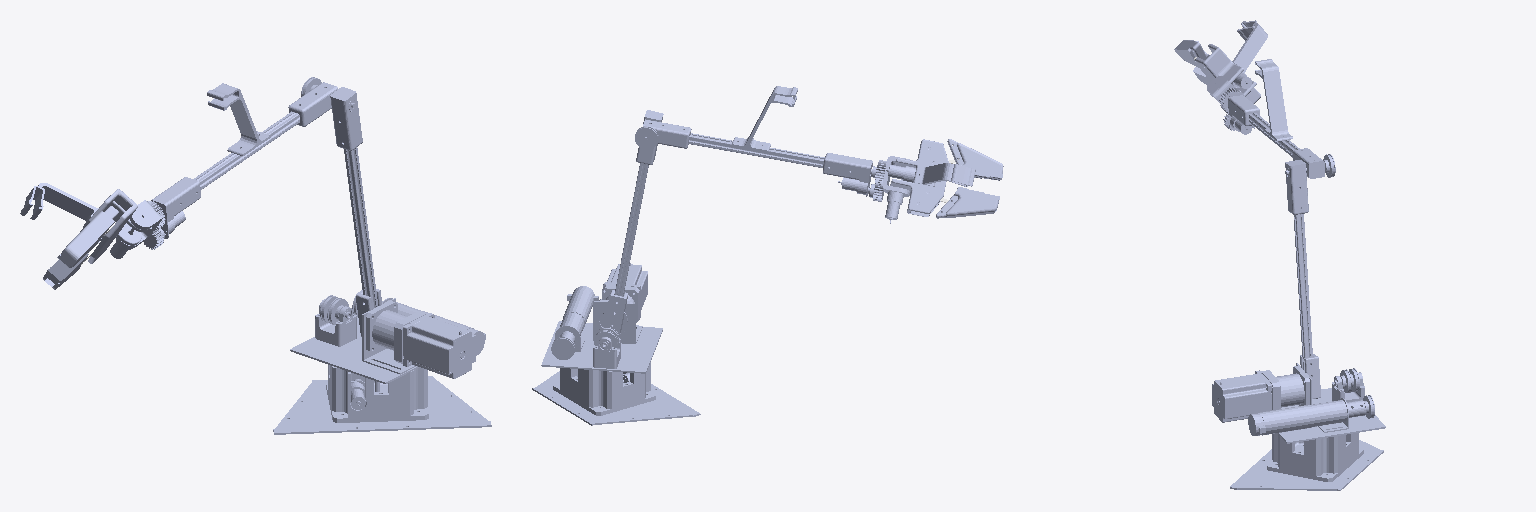
The robot description file, URDF, robot "leg_assembly":
<?xml version="1.0" encoding="utf-8"?>
<!-- This URDF was automatically created by SolidWorks to URDF Exporter! Originally created by [author] ([email redacted]) 
     Commit Version: 1.6.0-4-g7f85cfe  Build Version: 1.6.7995.38578
     For more information, please see http://wiki.ros.org/sw_urdf_exporter -->
<robot
  name="leg_assembly">
  <link
    name="base_link">
    <inertial>
      <origin
        xyz="0.150594316389524 0.0678493446135312 0.347863951717185"
        rpy="0 0 0" />
      <mass
        value="0.0101653880980363" />
      <inertia
        ixx="1.0048246878099E-05"
        ixy="-7.3468396926393E-37"
        ixz="-1.53688779177998E-21"
        iyy="1.5157875001342E-07"
        iyz="3.82929478237882E-22"
        izz="1.0048246878099E-05" />
    </inertial>
    <visual>
      <origin
        xyz="0 0 0"
        rpy="0 0 0" />
      <geometry>
        <mesh
          filename="package://leg_assembly/meshes/base_link.STL" />
      </geometry>
      <material
        name="">
        <color
          rgba="0.792156862745098 0.819607843137255 0.933333333333333 1" />
      </material>
    </visual>
    <collision>
      <origin
        xyz="0 0 0"
        rpy="0 0 0" />
      <geometry>
        <mesh
          filename="package://leg_assembly/meshes/base_link.STL" />
      </geometry>
    </collision>
  </link>
  <link
    name="link_1">
    <inertial>
      <origin
        xyz="-0.0614185793985458 0.127225993323511 -0.103015532344665"
        rpy="0 0 0" />
      <mass
        value="14.3172515097003" />
      <inertia
        ixx="1.47051720779902"
        ixy="-0.0975033756736119"
        ixz="0.162957766718895"
        iyy="1.06376569521041"
        iyz="0.590486867173748"
        izz="0.673327903454145" />
    </inertial>
    <visual>
      <origin
        xyz="0 0 0"
        rpy="0 0 0" />
      <geometry>
        <mesh
          filename="package://leg_assembly/meshes/link_1.STL" />
      </geometry>
      <material
        name="">
        <color
          rgba="0.792156862745098 0.819607843137255 0.933333333333333 1" />
      </material>
    </visual>
    <collision>
      <origin
        xyz="0 0 0"
        rpy="0 0 0" />
      <geometry>
        <mesh
          filename="package://leg_assembly/meshes/link_1.STL" />
      </geometry>
    </collision>
  </link>
  <joint
    name="base_joint"
    type="continuous">
    <origin
      xyz="0.150594316389524 -0.347863951717185 0.102099344613531"
      rpy="1.5707963267949 0 1.92899218657778" />
    <parent
      link="base_link" />
    <child
      link="link_1" />
    <axis
      xyz="0 1 0" />
  </joint>
  <link
    name="link_2">
    <inertial>
      <origin
        xyz="-0.0614185793985462 0.0860431898520337 -0.0252770894795993"
        rpy="0 0 0" />
      <mass
        value="14.3172515097003" />
      <inertia
        ixx="1.47051720779902"
        ixy="-0.183407254561084"
        ixz="0.049233331962452"
        iyy="0.28463001287987"
        iyz="0.21407088571695"
        izz="1.45246358578468" />
    </inertial>
    <visual>
      <origin
        xyz="0 0 0"
        rpy="0 0 0" />
      <geometry>
        <mesh
          filename="package://leg_assembly/meshes/link_2.STL" />
      </geometry>
      <material
        name="">
        <color
          rgba="0.792156862745098 0.819607843137255 0.933333333333333 1" />
      </material>
    </visual>
    <collision>
      <origin
        xyz="0 0 0"
        rpy="0 0 0" />
      <geometry>
        <mesh
          filename="package://leg_assembly/meshes/link_2.STL" />
      </geometry>
    </collision>
  </link>
  <joint
    name="shoulder_joint"
    type="continuous">
    <origin
      xyz="0 0.0829999999999999 -0.0249999999999991"
      rpy="-0.769347148250491 0 0" />
    <parent
      link="link_1" />
    <child
      link="link_2" />
    <axis
      xyz="1 0 0" />
  </joint>
  <link
    name="link_3">
    <inertial>
      <origin
        xyz="0.0349999999999945 -0.200848271626628 -0.50117220412209"
        rpy="0 0 0" />
      <mass
        value="0.003071007349849" />
      <inertia
        ixx="3.31492210861076E-07"
        ixy="1.85702047518155E-22"
        ixz="4.6983858793012E-22"
        iyy="2.91588594850019E-07"
        iyz="-9.95706013636013E-08"
        izz="8.3035914239687E-08" />
    </inertial>
    <visual>
      <origin
        xyz="0 0 0"
        rpy="0 0 0" />
      <geometry>
        <mesh
          filename="package://leg_assembly/meshes/link_3.STL" />
      </geometry>
      <material
        name="">
        <color
          rgba="0.792156862745098 0.819607843137255 0.933333333333333 1" />
      </material>
    </visual>
    <collision>
      <origin
        xyz="0 0 0"
        rpy="0 0 0" />
      <geometry>
        <mesh
          filename="package://leg_assembly/meshes/link_3.STL" />
      </geometry>
    </collision>
  </link>
  <joint
    name="elbow_joint"
    type="continuous">
    <origin
      xyz="0 0.433165678176262 0.292848996327625"
      rpy="1.03040234769901 0 0" />
    <parent
      link="link_2" />
    <child
      link="link_3" />
    <axis
      xyz="1 0 0" />
  </joint>
  <link
    name="link_4">
    <inertial>
      <origin
        xyz="0.320431980343591 -0.376269057917054 0.473731650433522"
        rpy="0 0 0" />
      <mass
        value="14.3172515097003" />
      <inertia
        ixx="1.22299869199904"
        ixy="0.315862841528246"
        ixz="-0.397130167812801"
        iyy="1.12261703452718"
        iyz="0.501432352642655"
        izz="0.861995079937343" />
    </inertial>
    <visual>
      <origin
        xyz="0 0 0"
        rpy="0 0 0" />
      <geometry>
        <mesh
          filename="package://leg_assembly/meshes/link_4.STL" />
      </geometry>
      <material
        name="">
        <color
          rgba="0.792156862745098 0.819607843137255 0.933333333333333 1" />
      </material>
    </visual>
    <collision>
      <origin
        xyz="0 0 0"
        rpy="0 0 0" />
      <geometry>
        <mesh
          filename="package://leg_assembly/meshes/link_4.STL" />
      </geometry>
    </collision>
  </link>
  <joint
    name="wrist_roll"
    type="continuous">
    <origin
      xyz="0.0349999999999992 -0.198274893934871 -0.494750912271433"
      rpy="-0.276225881664695 -0.304270113720173 -0.900391226843565" />
    <parent
      link="link_3" />
    <child
      link="link_4" />
    <axis
      xyz="0 0.0429812476264269 -0.99907587917659" />
  </joint>
  <link
    name="end_effector">
    <inertial>
      <origin
        xyz="2.22044604925031E-16 0.0152130621288969 -0.0798538250989508"
        rpy="0 0 0" />
      <mass
        value="0.00512941577019471" />
      <inertia
        ixx="1.25499198245662E-06"
        ixy="-3.4146015686189E-21"
        ixz="1.42275065359121E-21"
        iyy="1.90379021308943E-07"
        iyz="4.26651102034632E-07"
        izz="1.08400856452872E-06" />
    </inertial>
    <visual>
      <origin
        xyz="0 0 0"
        rpy="0 0 0" />
      <geometry>
        <mesh
          filename="package://leg_assembly/meshes/end_effector.STL" />
      </geometry>
      <material
        name="">
        <color
          rgba="0.792156862745098 0.819607843137255 0.933333333333333 1" />
      </material>
    </visual>
    <collision>
      <origin
        xyz="0 0 0"
        rpy="0 0 0" />
      <geometry>
        <mesh
          filename="package://leg_assembly/meshes/end_effector.STL" />
      </geometry>
    </collision>
  </link>
  <joint
    name="wrist_pitch"
    type="continuous">
    <origin
      xyz="0 0.0021491 -0.049954"
      rpy="0.29533 0 0" />
    <parent
      link="link_4" />
    <child
      link="end_effector" />
    <axis
      xyz="1 0 0" />
  </joint>
  <link
    name="finger_link_left">
    <inertial>
      <origin
        xyz="0 0.0265129074172366 0.0295580095320563"
        rpy="0 0 0" />
      <mass
        value="0.00369323716533971" />
      <inertia
        ixx="1.64319292473695E-06"
        ixy="5.29395592033938E-23"
        ixz="9.27269466671944E-22"
        iyy="1.65626520145604E-06"
        iyz="4.57265442619314E-21"
        izz="3.9078821758365E-08" />
    </inertial>
    <visual>
      <origin
        xyz="0 0 0"
        rpy="0 0 0" />
      <geometry>
        <mesh
          filename="package://leg_assembly/meshes/finger_link_left.STL" />
      </geometry>
      <material
        name="">
        <color
          rgba="1 1 1 1" />
      </material>
    </visual>
    <collision>
      <origin
        xyz="0 0 0"
        rpy="0 0 0" />
      <geometry>
        <mesh
          filename="package://leg_assembly/meshes/finger_link_left.STL" />
      </geometry>
    </collision>
  </link>
  <joint
    name="finger_joint_left"
    type="continuous">
    <origin
      xyz="-0.0350000000000005 -0.0252122416049434 -0.0725251018483113"
      rpy="-2.72838699915497 -0.386039781368848 2.97798281371752" />
    <parent
      link="end_effector" />
    <child
      link="finger_link_left" />
    <axis
      xyz="0 1 0" />
  </joint>
  <link
    name="finger_tip_left">
    <inertial>
      <origin
        xyz="-0.116970106234662 -0.175351334282535 0.816276217430182"
        rpy="0 0 0" />
      <mass
        value="14.3172515097003" />
      <inertia
        ixx="1.47116642312389"
        ixy="-0.0431428215248987"
        ixz="0.0989108612375278"
        iyy="1.37410627950981"
        iyz="0.393564230132815"
        izz="0.362338103829861" />
    </inertial>
    <visual>
      <origin
        xyz="0 0 0"
        rpy="0 0 0" />
      <geometry>
        <mesh
          filename="package://leg_assembly/meshes/finger_tip_left.STL" />
      </geometry>
      <material
        name="">
        <color
          rgba="0.792156862745098 0.819607843137255 0.933333333333333 1" />
      </material>
    </visual>
    <collision>
      <origin
        xyz="0 0 0"
        rpy="0 0 0" />
      <geometry>
        <mesh
          filename="package://leg_assembly/meshes/finger_tip_left.STL" />
      </geometry>
    </collision>
  </link>
  <joint
    name="finger_j1"
    type="continuous">
    <origin
      xyz="0 0 0.0599999999999998"
      rpy="-2.81843607467865 -0.292711741710647 -3.14159265358978" />
    <parent
      link="finger_link_left" />
    <child
      link="finger_tip_left" />
    <axis
      xyz="0 0.948237736477631 -0.317561324974845" />
  </joint>
  <link
    name="finger_link_right">
    <inertial>
      <origin
        xyz="1.11022302462516E-16 0.019589295354482 0.0295580095320566"
        rpy="0 0 0" />
      <mass
        value="0.00369323716533973" />
      <inertia
        ixx="1.64319292473697E-06"
        ixy="-5.29395592033938E-23"
        ixz="9.40504356472792E-22"
        iyy="1.65626520145607E-06"
        iyz="6.24025054110004E-21"
        izz="3.90788217583653E-08" />
    </inertial>
    <visual>
      <origin
        xyz="0 0 0"
        rpy="0 0 0" />
      <geometry>
        <mesh
          filename="package://leg_assembly/meshes/finger_link_right.STL" />
      </geometry>
      <material
        name="">
        <color
          rgba="1 1 1 1" />
      </material>
    </visual>
    <collision>
      <origin
        xyz="0 0 0"
        rpy="0 0 0" />
      <geometry>
        <mesh
          filename="package://leg_assembly/meshes/finger_link_right.STL" />
      </geometry>
    </collision>
  </link>
  <joint
    name="finger_joint_right"
    type="continuous">
    <origin
      xyz="0.035 -0.018786 -0.075101"
      rpy="-2.7586 0.095478 -3.1032" />
    <parent
      link="end_effector" />
    <child
      link="finger_link_right" />
    <axis
      xyz="0 1 0" />
    <mimic
      joint="finger_joint_left"
      multiplier="1"
      offset="0" />
  </joint>
  <link
    name="finger_tip_right">
    <inertial>
      <origin
        xyz="-0.21008 -0.20292 0.75576"
        rpy="0 0 0" />
      <mass
        value="14.317" />
      <inertia
        ixx="1.4675"
        ixy="-0.050352"
        ixz="0.11832"
        iyy="1.3735"
        iyz="0.39336"
        izz="0.36667" />
    </inertial>
    <visual>
      <origin
        xyz="0 0 0"
        rpy="0 0 0" />
      <geometry>
        <mesh
          filename="package://leg_assembly/meshes/finger_tip_right.STL" />
      </geometry>
      <material
        name="">
        <color
          rgba="0.79216 0.81961 0.93333 1" />
      </material>
    </visual>
    <collision>
      <origin
        xyz="0 0 0"
        rpy="0 0 0" />
      <geometry>
        <mesh
          filename="package://leg_assembly/meshes/finger_tip_right.STL" />
      </geometry>
    </collision>
  </link>
  <joint
    name="finger_j2"
    type="continuous">
    <origin
      xyz="0 0 0.06"
      rpy="-2.8184 -0.8343 -3.1416" />
    <parent
      link="finger_link_right" />
    <child
      link="finger_tip_right" />
    <axis
      xyz="0 0.94824 -0.31756" />
    <mimic
      joint="finger_j1"
      multiplier="1"
      offset="0" />
  </joint>

</robot>

--- Render facts (derived) ---
The picture shows the robot from 3 angles, left to right: view 1: azimuth 30°, elevation 25°; view 2: azimuth 150°, elevation 25°; view 3: azimuth 270°, elevation 25°; orthographic projection.
Model leg_assembly with 10 links and 9 joints (9 continuous), rooted at base_link, posed every joint at zero.
Links seen in each view (by area): view 1: link_1, base_link, link_3, link_2, end_effector, finger_tip_left, link_4, finger_tip_right; view 2: link_1, base_link, link_3, end_effector, link_2, finger_tip_right, finger_tip_left, link_4; view 3: link_1, base_link, link_3, link_2, end_effector, link_4, finger_tip_left.
Boxes of the visible links, x1,y1,x2,y2 form: link_1: [290, 295, 485, 383]; base_link: [273, 365, 491, 434]; link_3: [144, 77, 355, 249]; link_2: [330, 87, 381, 336]; end_effector: [20, 183, 149, 263]; finger_tip_left: [57, 206, 118, 267]; link_4: [110, 200, 165, 258]; finger_tip_right: [43, 253, 88, 289]; link_1: [541, 263, 662, 373]; base_link: [532, 362, 700, 425]; link_3: [635, 86, 883, 201]; end_effector: [884, 139, 975, 216]; link_2: [603, 110, 663, 334]; finger_tip_right: [936, 187, 999, 218]; finger_tip_left: [947, 139, 1003, 180]; link_4: [871, 156, 912, 223]; link_1: [1212, 363, 1385, 443]; base_link: [1230, 433, 1383, 490]; link_3: [1223, 59, 1335, 178]; link_2: [1285, 160, 1320, 398]; end_effector: [1195, 20, 1267, 103]; link_4: [1207, 76, 1254, 128]; finger_tip_left: [1174, 40, 1209, 67].
Size in the robot's own frame: 1.08 by 0.4927 by 0.8294 metres.
Meshes: 10 distinct files referenced, 10 mesh visuals loaded (10 binary STL).